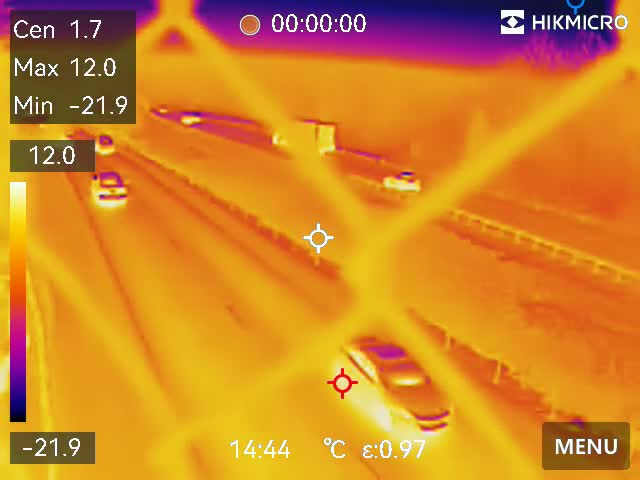heavyTruck: (271, 109, 339, 161)
lightTruck: (90, 169, 131, 211)
smallCar: (330, 331, 462, 448), (379, 171, 427, 193)
vehicle: (93, 130, 117, 157), (179, 110, 202, 126)
